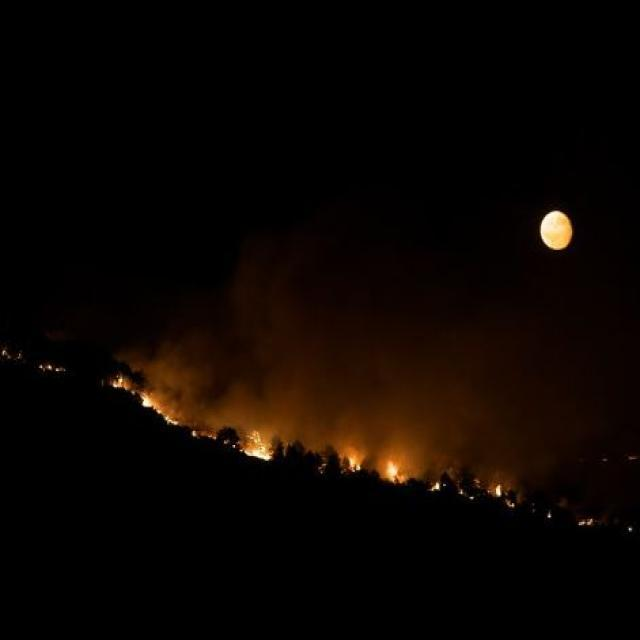Fire: (478, 475, 605, 535), (345, 444, 453, 496), (114, 374, 180, 428), (224, 431, 280, 464)
Smoke: (136, 234, 507, 458)
